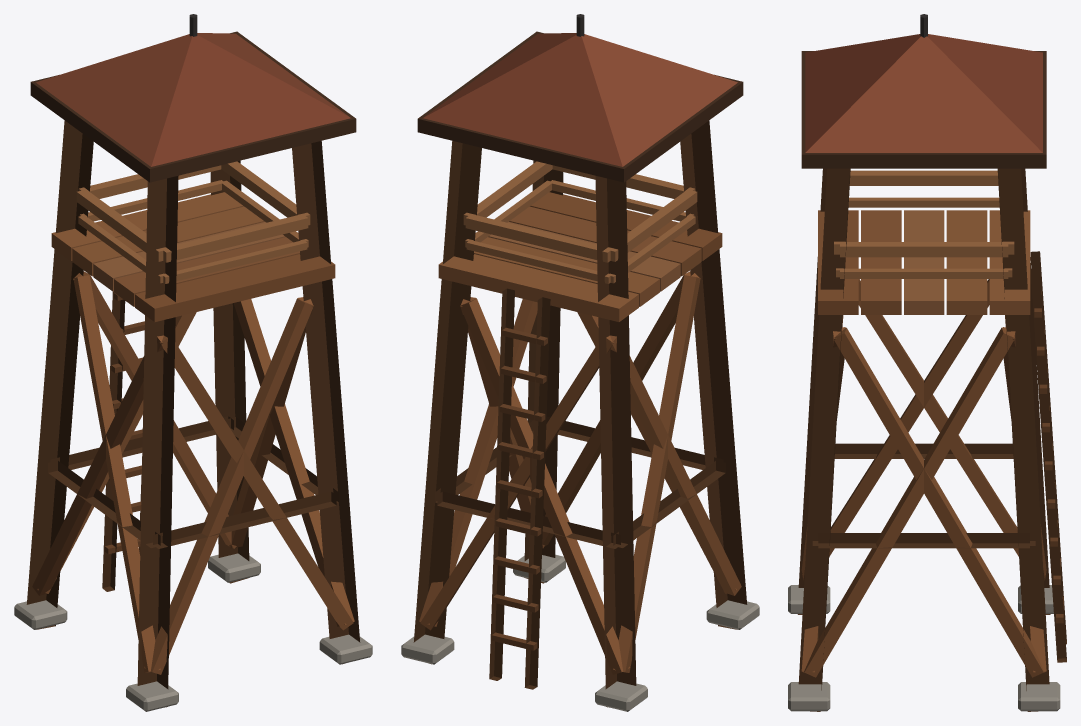
Rendered from LookoutTower.glb.
3 views of the same model, side by side, from view 1: azimuth 30°, elevation 25°; view 2: azimuth 150°, elevation 25°; view 3: azimuth 270°, elevation 25° (orthographic). The views are drawn at different scales.
Parts seen in each view (by area): view 1: Body; view 2: Body; view 3: Body.
Boxes of the visible parts, <box> form: Body: <box>14,14,372,711</box>; Body: <box>401,14,759,711</box>; Body: <box>788,14,1066,711</box>.
Size of what is drawn, in the model's own units: 7.1 by 18.53 by 7.27.
